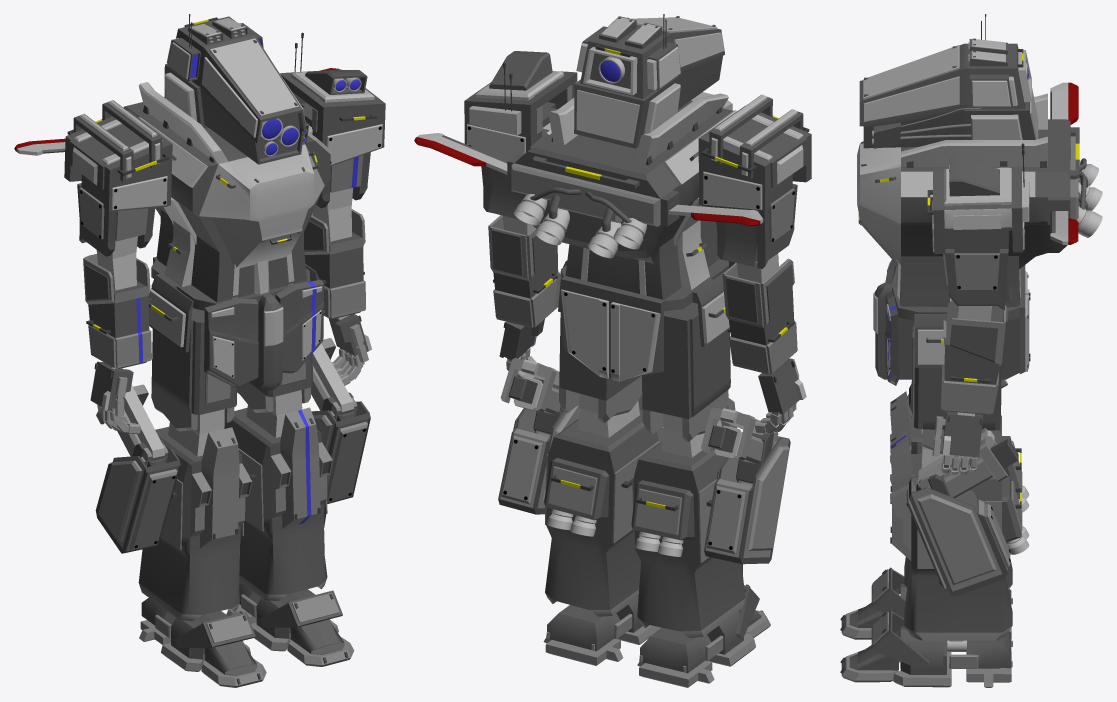
The model's file is Mech Select Dash Pose.fbx.
3 views of the same model, side by side, from view 1: azimuth 30°, elevation 25°; view 2: azimuth 150°, elevation 25°; view 3: azimuth 270°, elevation 25° (orthographic). The views are drawn at different scales.
Visible parts, largest first — view 1: DASH_Frame; view 2: DASH_Frame; view 3: DASH_Frame.
Part boxes in pixels (box(x1,y1,x2,y2)): DASH_Frame: box(14, 14, 385, 687); DASH_Frame: box(414, 14, 811, 687); DASH_Frame: box(840, 14, 1102, 687).
Size of the model in its own units: 6.83 by 12.48 by 4.76.
